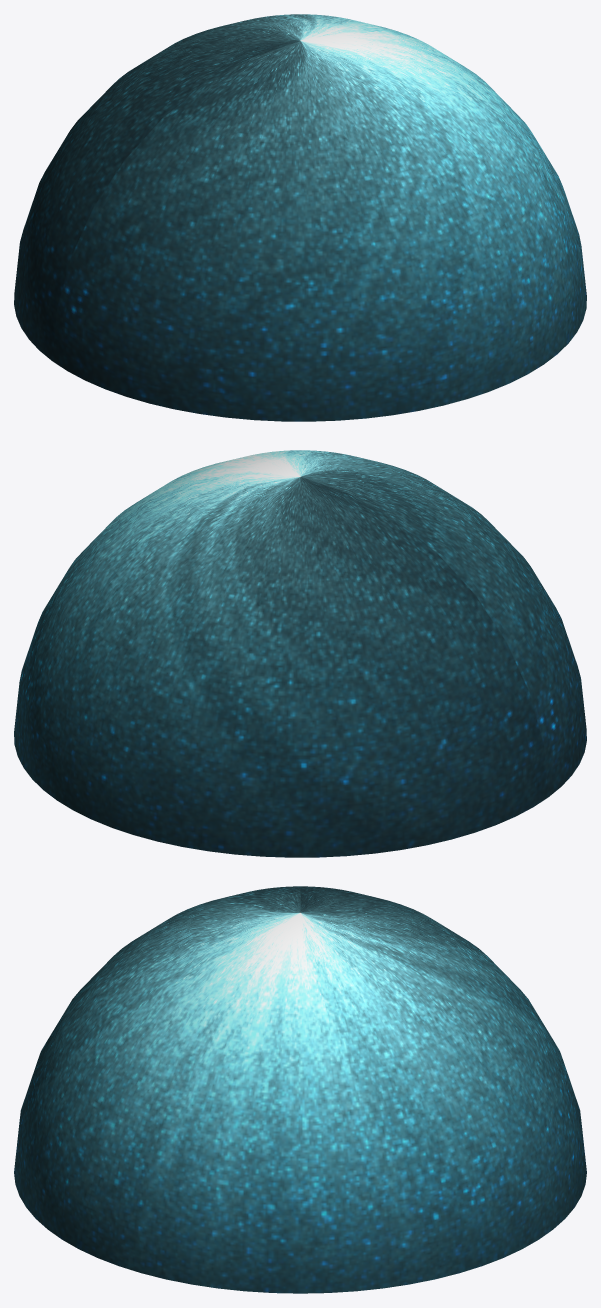
File: DeepSea2.gltf
3 renders of one model, top to bottom at view 1: azimuth 30°, elevation 25°; view 2: azimuth 150°, elevation 25°; view 3: azimuth 270°, elevation 25°, orthographic.
Visible parts, largest first — view 1: 球; view 2: 球; view 3: 球.
Part boxes in pixels (x1,y1,x2,y2): 球: [14, 14, 586, 421]; 球: [14, 450, 586, 857]; 球: [14, 886, 586, 1293].
Size of the model in its own units: 2 by 1 by 2.
1 material, 1 textured.
